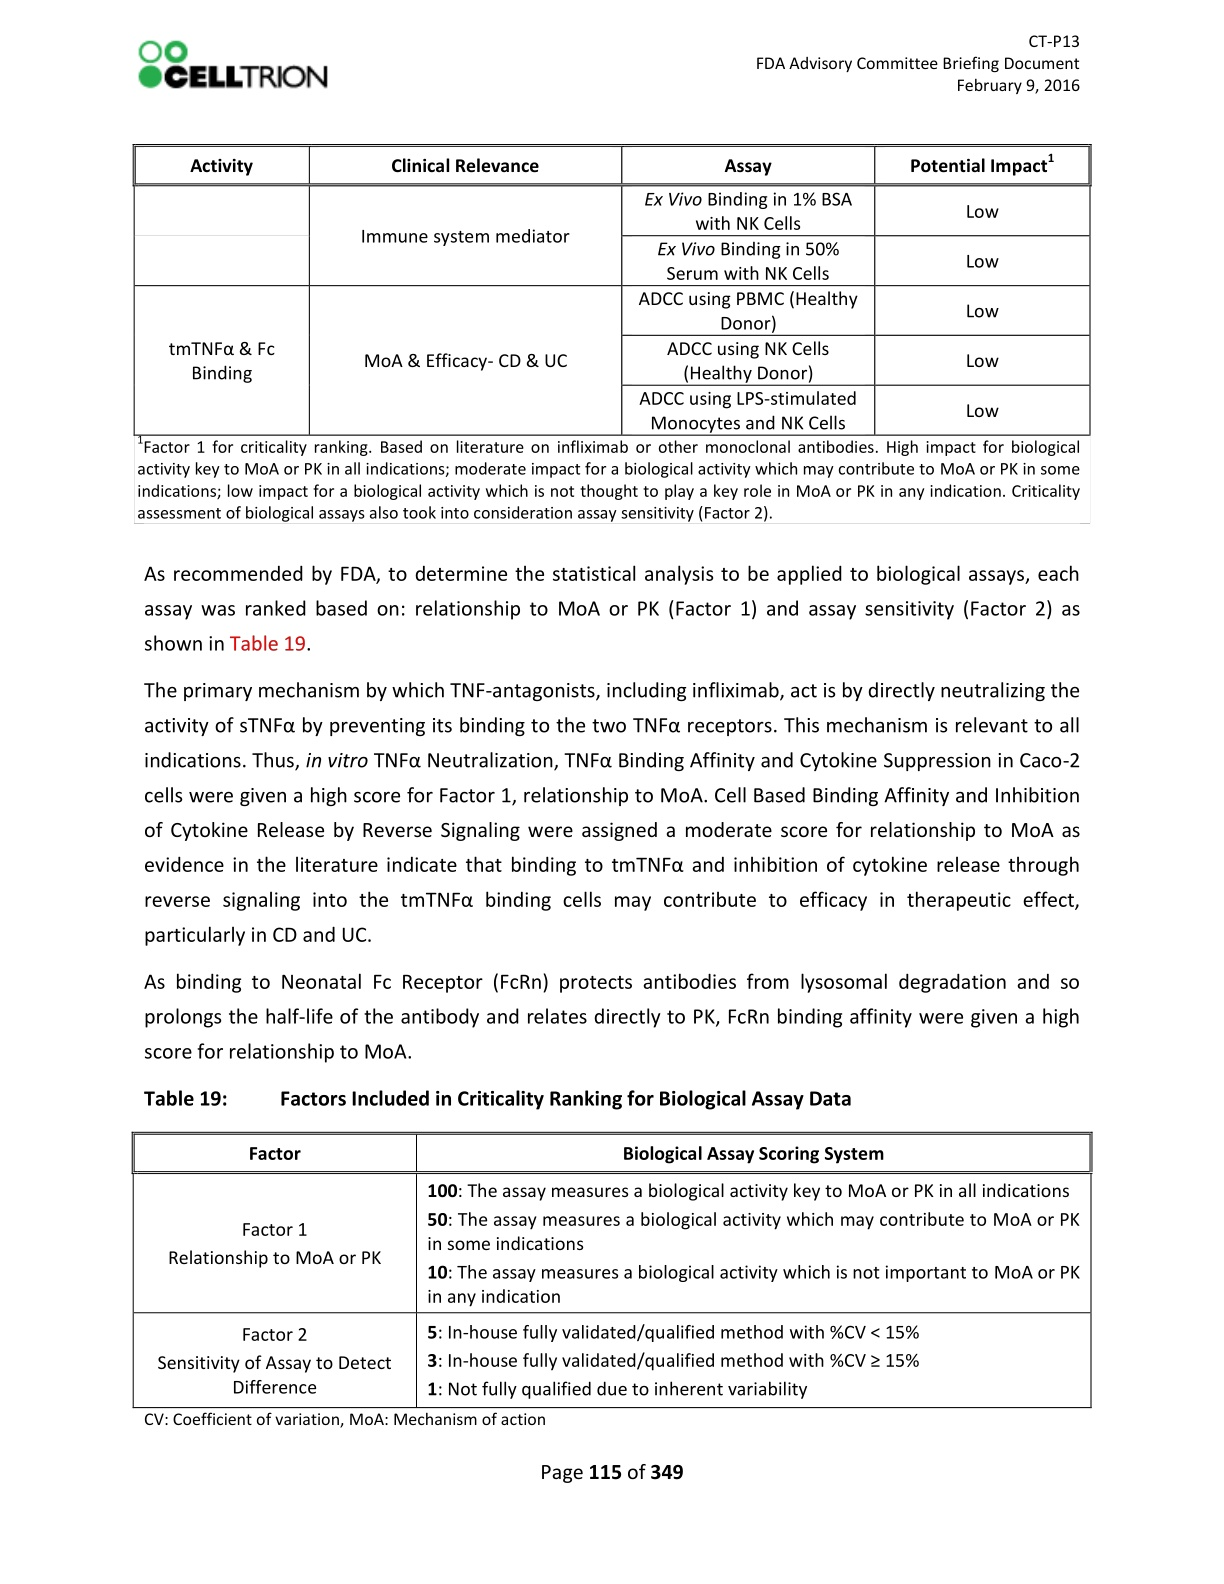full_lined: (131, 1131, 1092, 1410)
merged_cells: (131, 143, 1092, 438)
